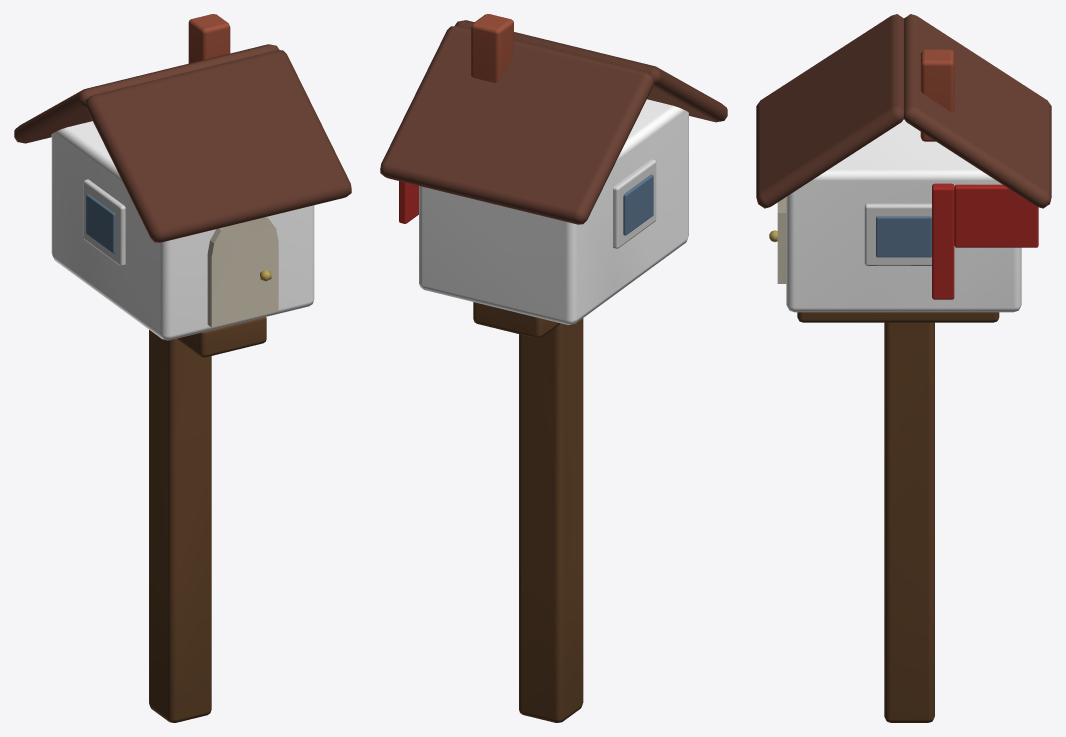
Rendered from mailbox_cottage.glb.
3 views of the same model, side by side, from view 1: azimuth 30°, elevation 25°; view 2: azimuth 150°, elevation 25°; view 3: azimuth 270°, elevation 25° (orthographic). The views are drawn at different scales.
Parts seen in each view (by area): view 1: mailbox_cottage_main, mailbox_cottage_body; view 2: mailbox_cottage_main, mailbox_cottage_body; view 3: mailbox_cottage_main, mailbox_cottage_body.
Part boxes in pixels (x1=…): mailbox_cottage_main: x1=14, y1=14, x2=351, y2=722; mailbox_cottage_body: x1=51, y1=121, x2=314, y2=340; mailbox_cottage_main: x1=380, y1=14, x2=727, y2=722; mailbox_cottage_body: x1=419, y1=99, x2=688, y2=324; mailbox_cottage_main: x1=756, y1=14, x2=1051, y2=722; mailbox_cottage_body: x1=786, y1=119, x2=1021, y2=312.
Bounding box in the file's own units: 0.42 × 1.34 × 0.5262.
